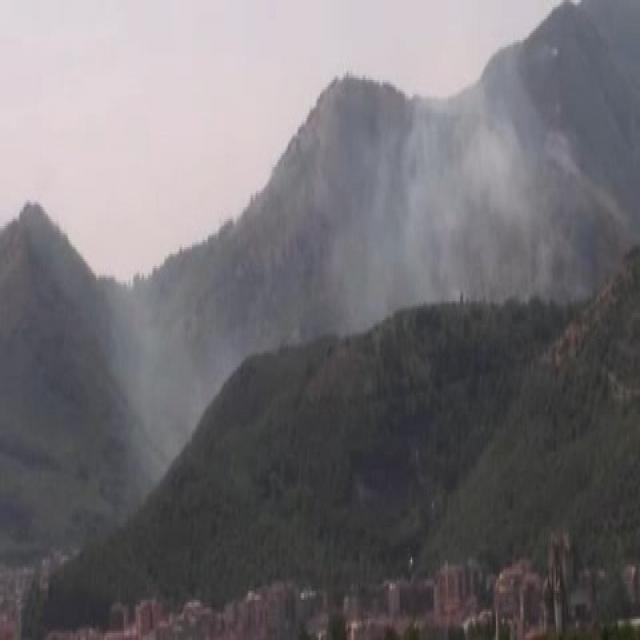smoke: (345, 83, 564, 310)
